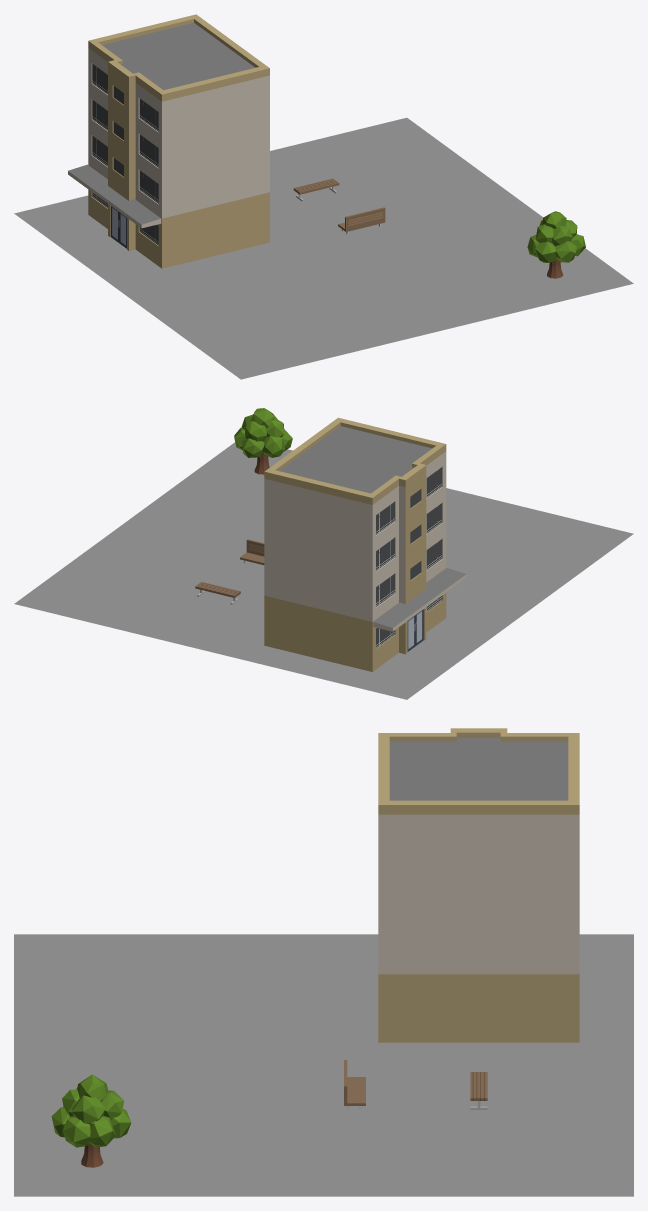
The model's file is remix-civic-plaza.glb.
3 renders of one model, top to bottom at view 1: azimuth 30°, elevation 25°; view 2: azimuth 150°, elevation 25°; view 3: azimuth 270°, elevation 25°, orthographic. The views are drawn at different scales.
Visible parts, largest first — view 1: Road Concrete Tile_Plane.010, Building Sky_small_color01_Cube.028, Natures_Big Tree_Mesh.008, Props_Bench_2_Cube.022; view 2: Road Concrete Tile_Plane.010, Building Sky_small_color01_Cube.028, Natures_Big Tree_Mesh.008, Props_Bench_2_Cube.022, Props_Bench_1_Cube.023; view 3: Road Concrete Tile_Plane.010, Building Sky_small_color01_Cube.028, Natures_Big Tree_Mesh.008, Props_Bench_2_Cube.022.
Part boxes in pixels (x1,y1,x2,y2): Road Concrete Tile_Plane.010: (14,117,633,379); Building Sky_small_color01_Cube.028: (68,14,269,268); Natures_Big Tree_Mesh.008: (527,211,585,278); Props_Bench_2_Cube.022: (338,207,385,234); Road Concrete Tile_Plane.010: (14,442,633,699); Building Sky_small_color01_Cube.028: (264,417,466,671); Natures_Big Tree_Mesh.008: (234,408,292,474); Props_Bench_2_Cube.022: (240,539,264,565); Props_Bench_1_Cube.023: (195,582,240,604); Road Concrete Tile_Plane.010: (14,934,633,1196); Building Sky_small_color01_Cube.028: (378,728,579,1042); Natures_Big Tree_Mesh.008: (51,1074,131,1167); Props_Bench_2_Cube.022: (344,1060,365,1109).
Size of the model in its own units: 40 by 16.93 by 40.
4 materials, 4 textured.
